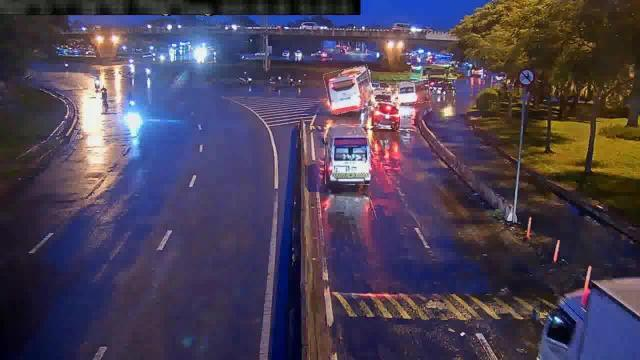Bus: (325, 124, 371, 186), (326, 67, 374, 113), (398, 80, 430, 103)
Car: (368, 100, 399, 128)
